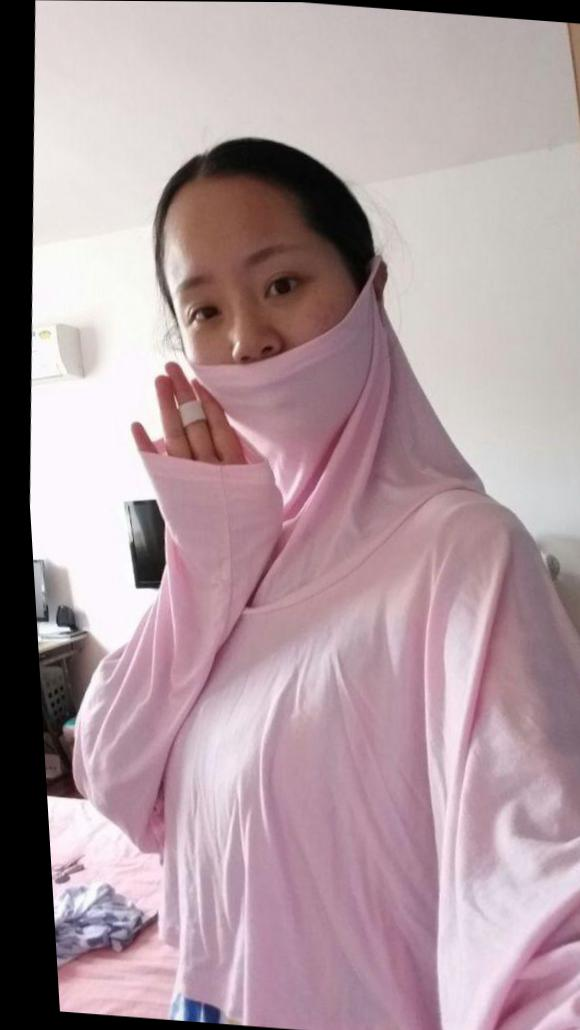WRONG: (157, 230, 373, 458)
